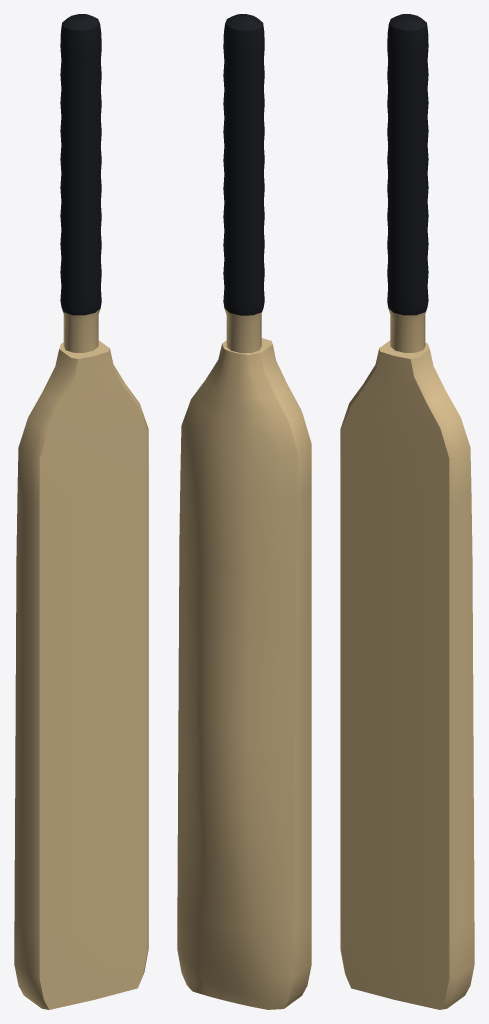
File: cricket_bat.glb
The picture shows the model from 3 angles, left to right: view 1: azimuth 30°, elevation 25°; view 2: azimuth 150°, elevation 25°; view 3: azimuth 330°, elevation 25°; orthographic projection.
Visible parts, largest first — view 1: cricket_bat; view 2: cricket_bat; view 3: cricket_bat.
Boxes of the visible parts, x1,y1,x2,y2 form: cricket_bat: [14, 14, 148, 1009]; cricket_bat: [177, 14, 311, 1009]; cricket_bat: [340, 14, 474, 1009].
Bounding box in the file's own units: 0.108 × 0.86 × 0.0639.
